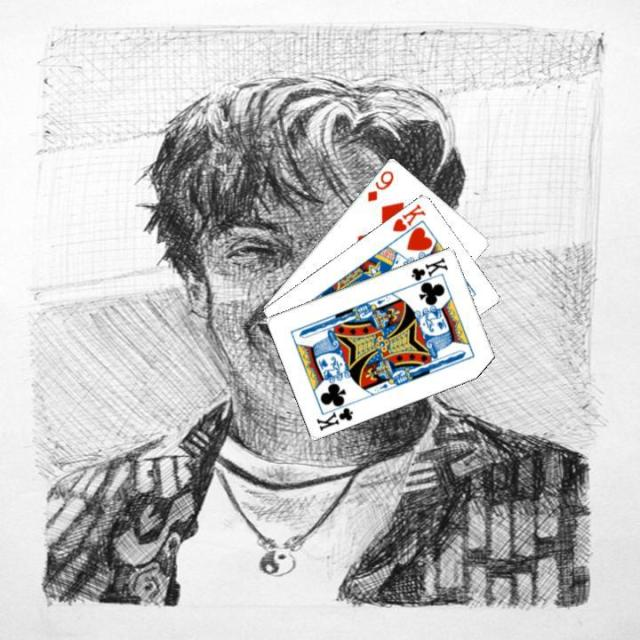9D: (364, 166, 396, 204)
KC: (407, 253, 450, 288), (313, 397, 355, 432)
KH: (388, 199, 428, 234)
